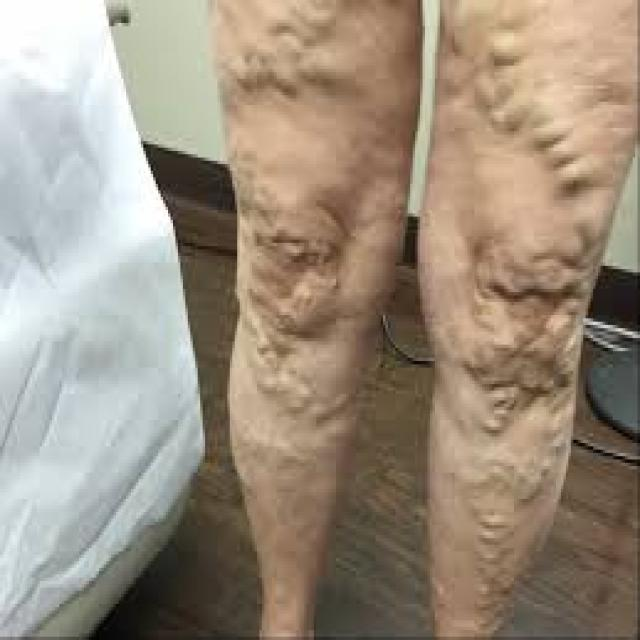Varicose: (194, 6, 554, 605)
